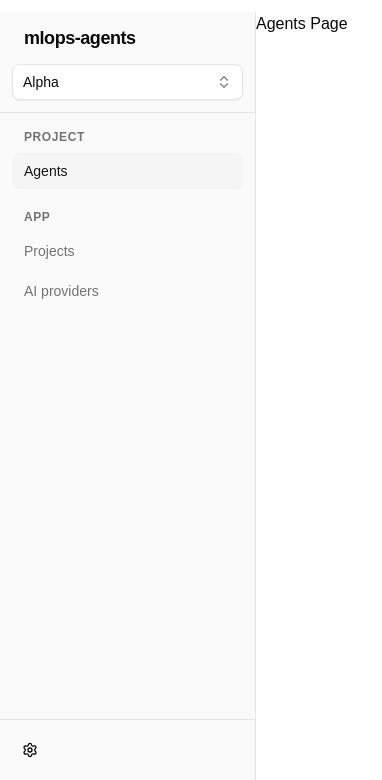
Scenario: Sidebar current project › keeps the project of the URL when going to an app page, whatever last_opened_at says
Expected: the button "Alpha" is shown, [12,64,243,100]
Click the link "AI providers" at (61, 291), box [24,283,99,299]
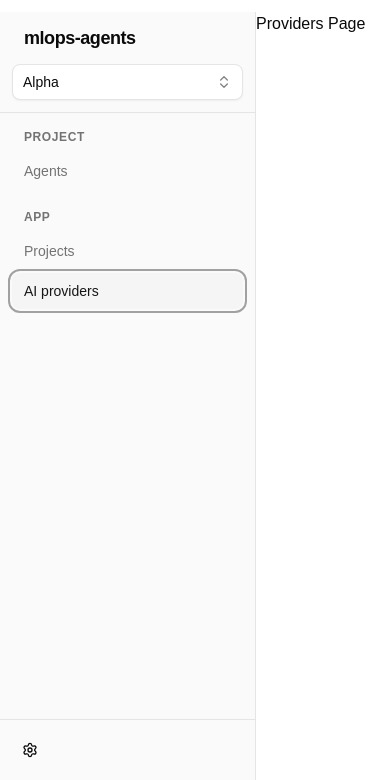
Expected: the button "Alpha" is shown, [12,64,243,100]
Expected: the text "Providers Page" is shown, [256,15,365,32]
